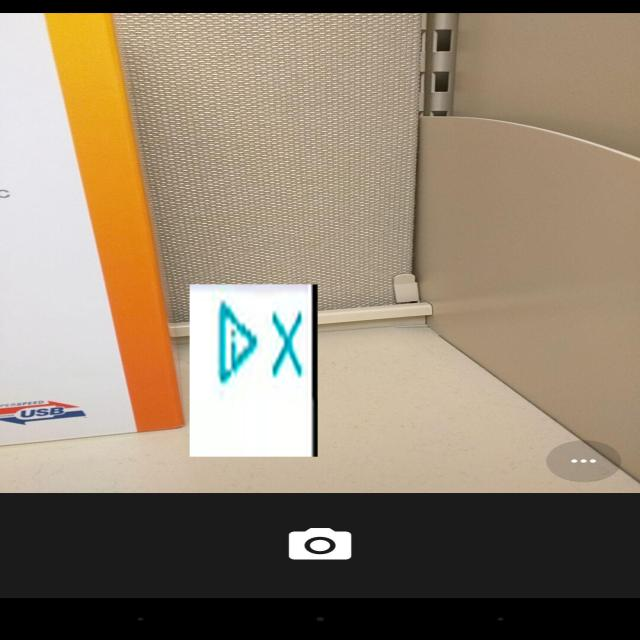sneaking: (190, 284, 318, 457)
